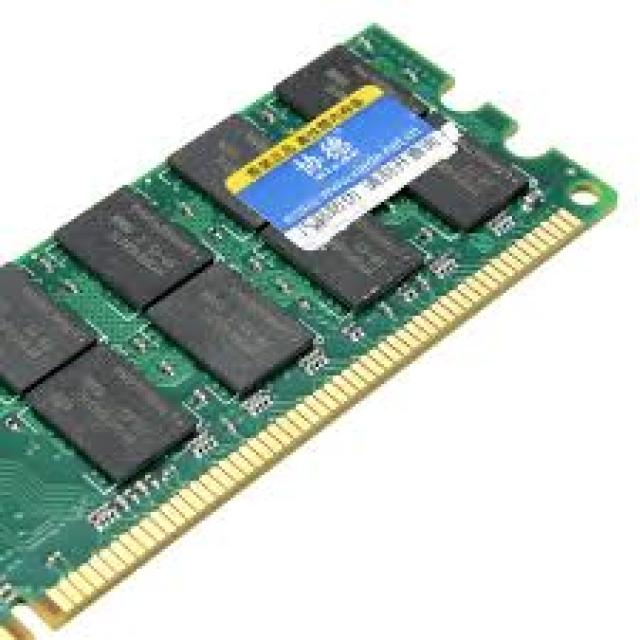Ram: (74, 72, 526, 610)
